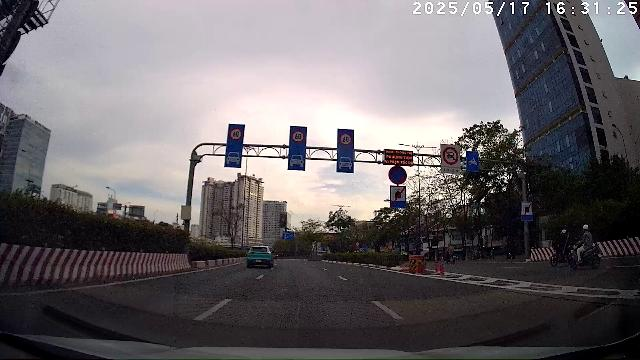103a-cam-oto: (442, 145, 460, 165)
127-toc-do-toi-da-60: (229, 127, 243, 141), (340, 133, 352, 147), (292, 129, 304, 143)
131a-cam-do-xe: (388, 166, 408, 184)
